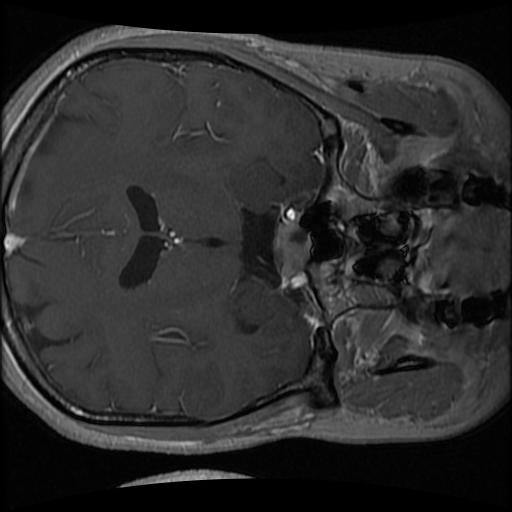pituitary tumour: (273, 222, 311, 278)
